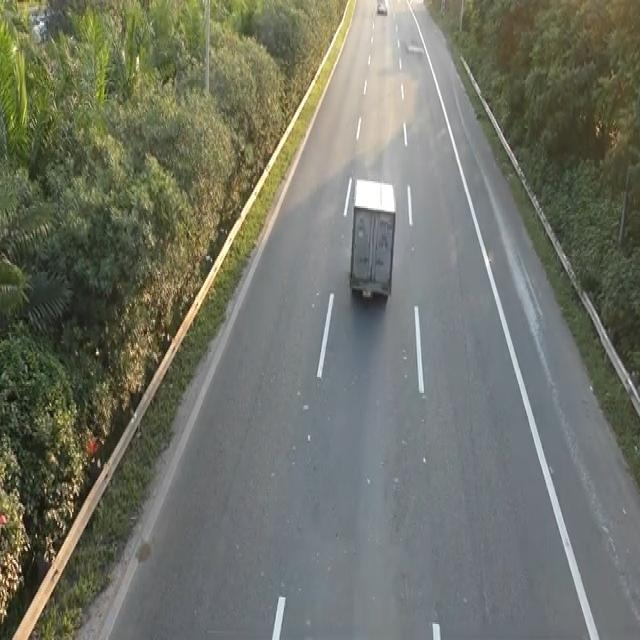minivan: (346, 174, 397, 304)
